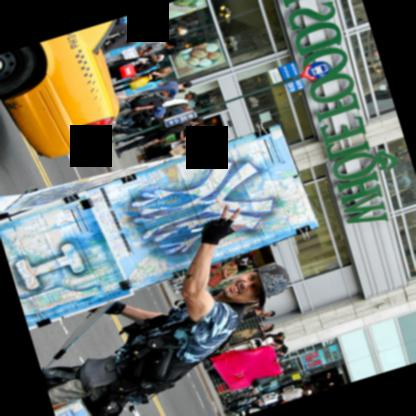backpack: (116, 288, 247, 399), (129, 107, 155, 122)
handbag: (100, 26, 134, 51), (127, 76, 151, 90), (167, 145, 186, 157), (119, 65, 134, 79)
